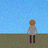person: (27, 20, 38, 43)
